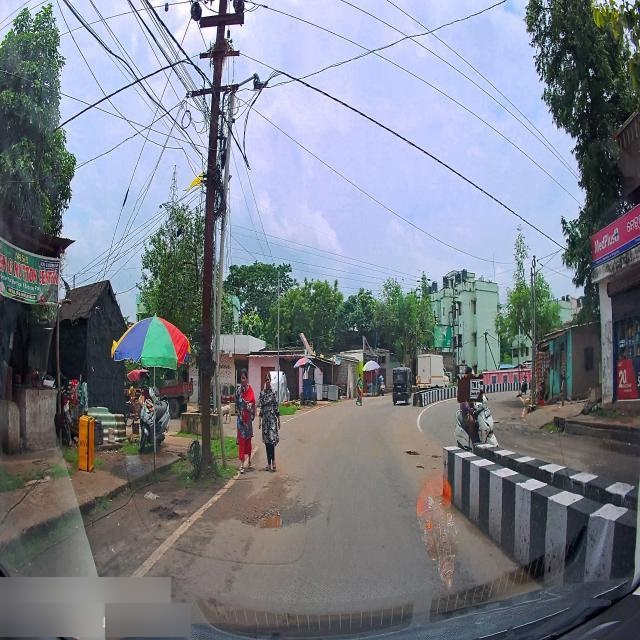pothole: (249, 505, 286, 538)
